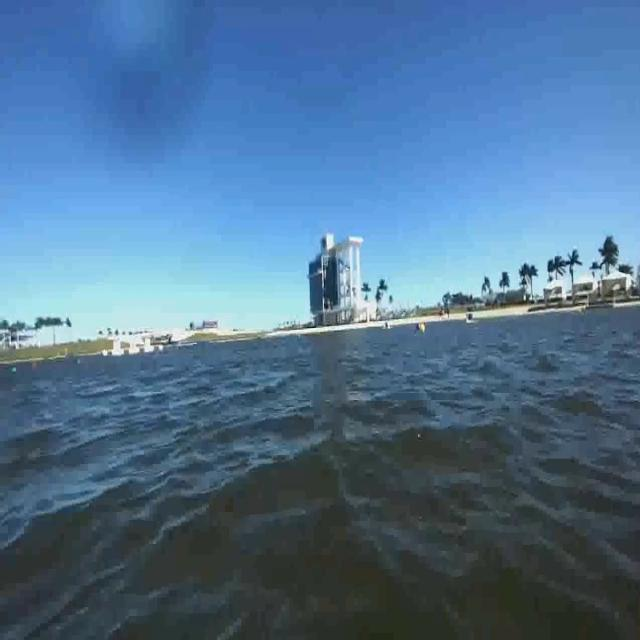green-buoy: (12, 366, 18, 374)
